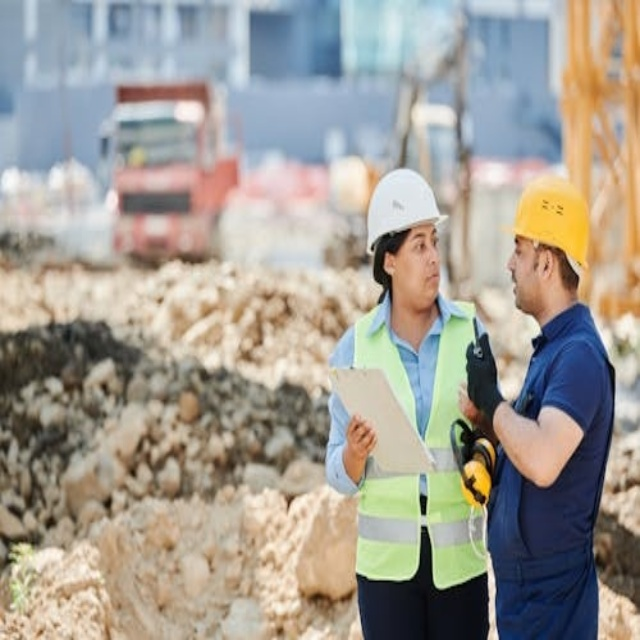Guantes: (465, 322, 507, 426)
Sin_gafas: (403, 225, 444, 252), (509, 234, 536, 263)
Sin_guantes: (340, 413, 380, 467)
Sin_mascara: (508, 267, 532, 300), (417, 261, 442, 290)
